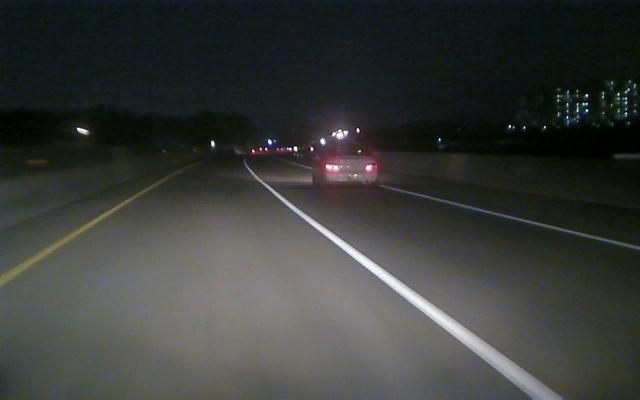lane: (251, 170, 565, 398), (391, 186, 640, 251), (2, 198, 132, 285)
